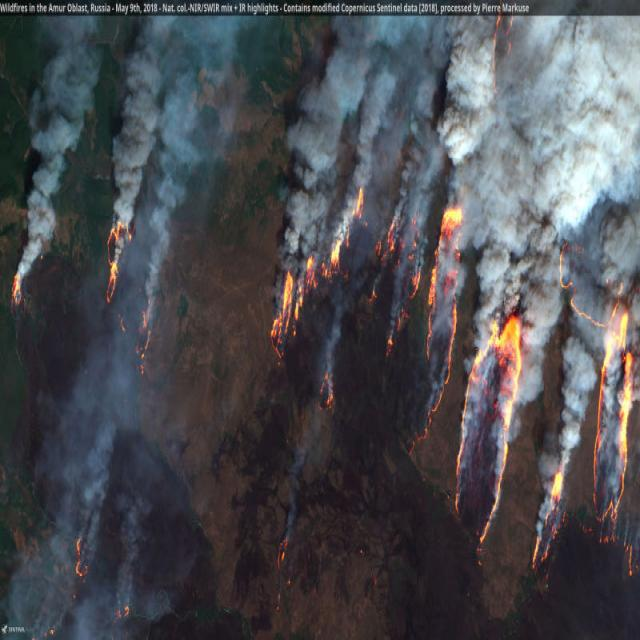Fire: (272, 135, 640, 579)
Smoke: (5, 16, 640, 640), (0, 34, 179, 640), (182, 302, 190, 316)
